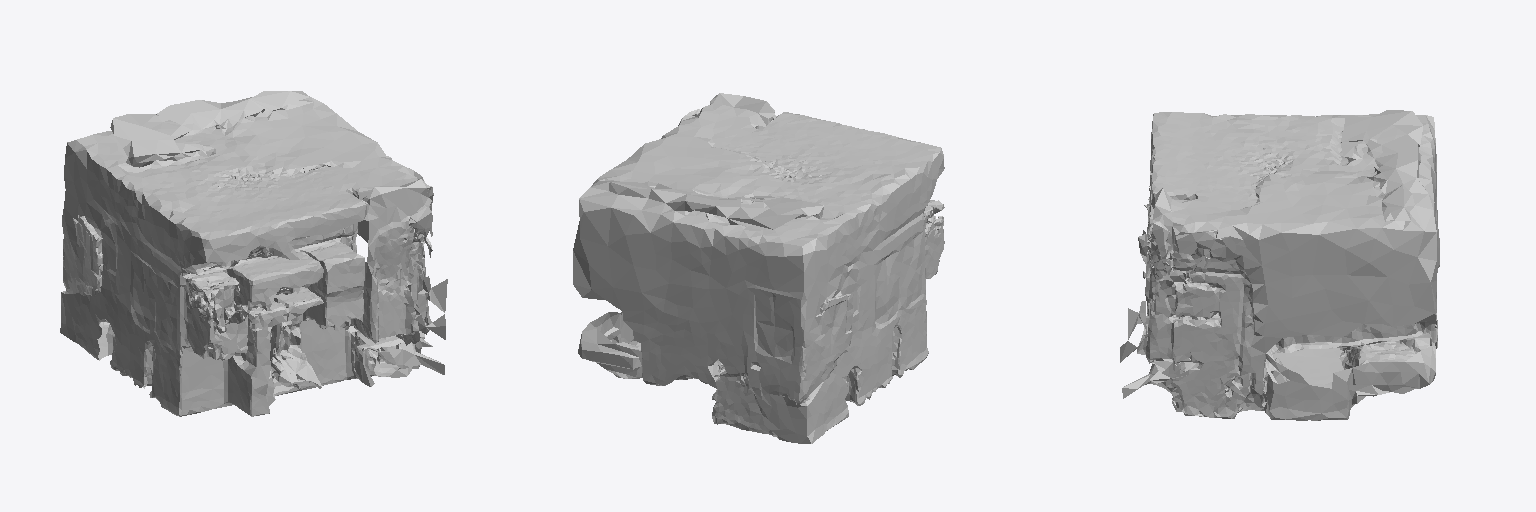
The model's file is Beaty Bedroom 1.obj.
The picture shows the model from 3 angles: view 1: azimuth 30°, elevation 25°; view 2: azimuth 150°, elevation 25°; view 3: azimuth 270°, elevation 25°; orthographic projection.
Visible parts, largest first — view 1: mesh_simple_rotated_0, mesh_simple_rotated_1; view 2: mesh_simple_rotated_0, mesh_simple_rotated_1; view 3: mesh_simple_rotated_1, mesh_simple_rotated_0.
Part boxes in pixels (bbox=[...]): mesh_simple_rotated_0: bbox=[61, 99, 386, 416]; mesh_simple_rotated_1: bbox=[60, 91, 447, 378]; mesh_simple_rotated_0: bbox=[623, 101, 944, 436]; mesh_simple_rotated_1: bbox=[573, 93, 835, 443]; mesh_simple_rotated_1: bbox=[1120, 184, 1437, 420]; mesh_simple_rotated_0: bbox=[1144, 110, 1439, 388].
Size of the model in its own units: 3.65 by 3.06 by 4.12.